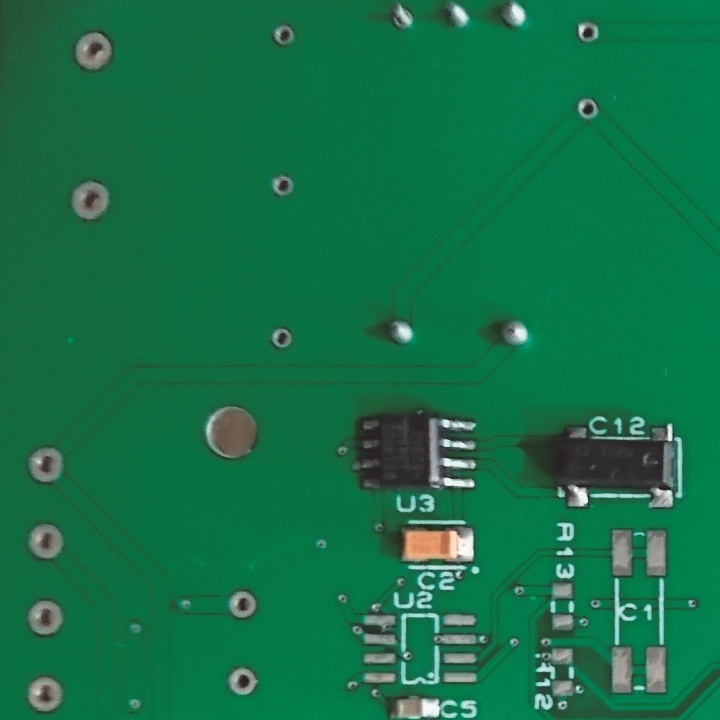F: (23, 519, 68, 564), (70, 29, 116, 72), (70, 178, 113, 224), (24, 446, 68, 487), (23, 596, 64, 639), (23, 673, 64, 714), (227, 665, 261, 700), (227, 589, 260, 621), (385, 2, 417, 30), (270, 22, 299, 50), (269, 172, 296, 200), (269, 325, 295, 354), (576, 94, 600, 125), (576, 23, 601, 49)
